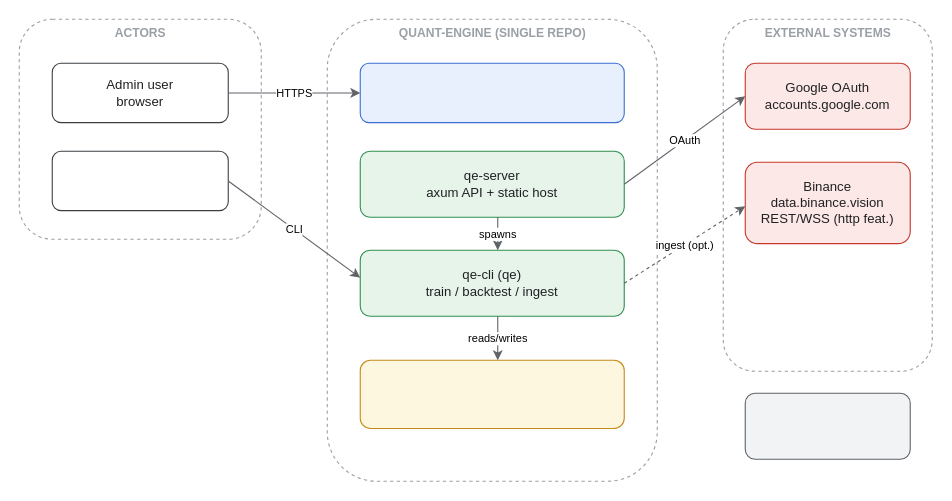
The diagram is 952 pixels wide and 501 high, and some of its shapes have lost their labels. The shapes that lost their labels are listed below. From the top down, each one's centre as x and y in pixels, then its label:
At pixel 491 92: "Admin SPA web/ (Vite+React)".
At pixel 139 180: "Developer / operator shell".
At pixel 491 393: "Local state LMDB + vintages + runs/".
At pixel 827 425: "Live venue path not reachable from server (firewall)".
